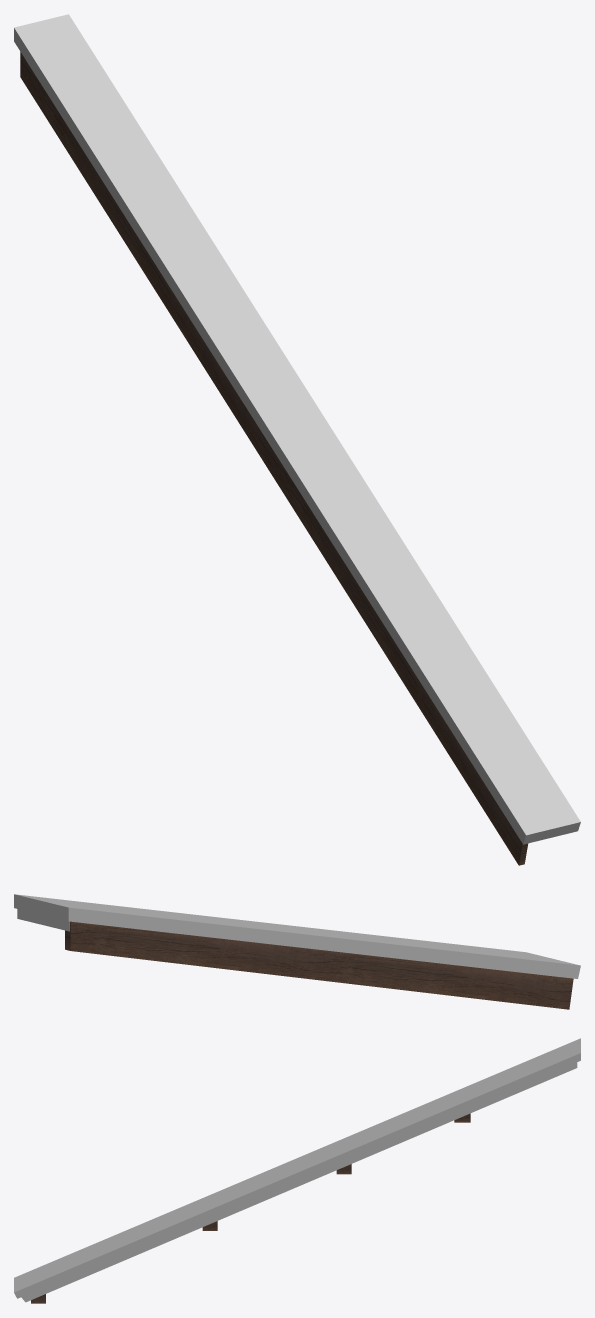
Rendered from kawara__x4t_a1end_r.fbx.
The picture shows the model from 3 angles, top to bottom: view 1: azimuth 30°, elevation 25°; view 2: azimuth 150°, elevation 25°; view 3: azimuth 270°, elevation 25°; orthographic projection. The views are drawn at different scales.
Parts seen in each view (by area): view 1: kawara__x4t_a1end_r; view 2: kawara__x4t_a1end_r; view 3: kawara__x4t_a1end_r.
Boxes of the visible parts, <box> form: kawara__x4t_a1end_r: <box>14,14,580,865</box>; kawara__x4t_a1end_r: <box>14,894,580,1009</box>; kawara__x4t_a1end_r: <box>14,1038,580,1303</box>.
Size of the model in its own units: 30.3 by 249 by 490.
